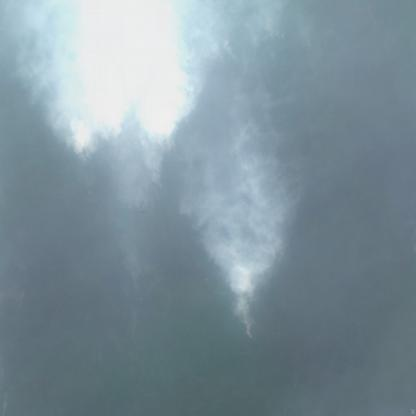fire: (138, 134, 169, 212), (231, 278, 260, 344)
